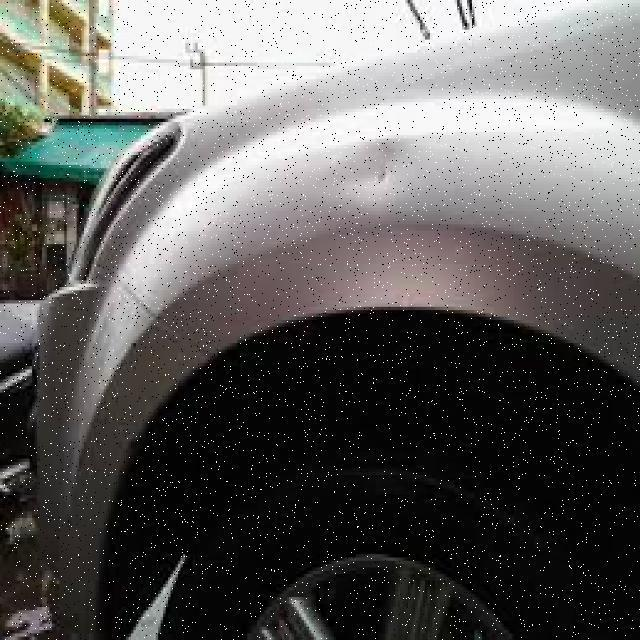fender-dent: (106, 119, 638, 482)
